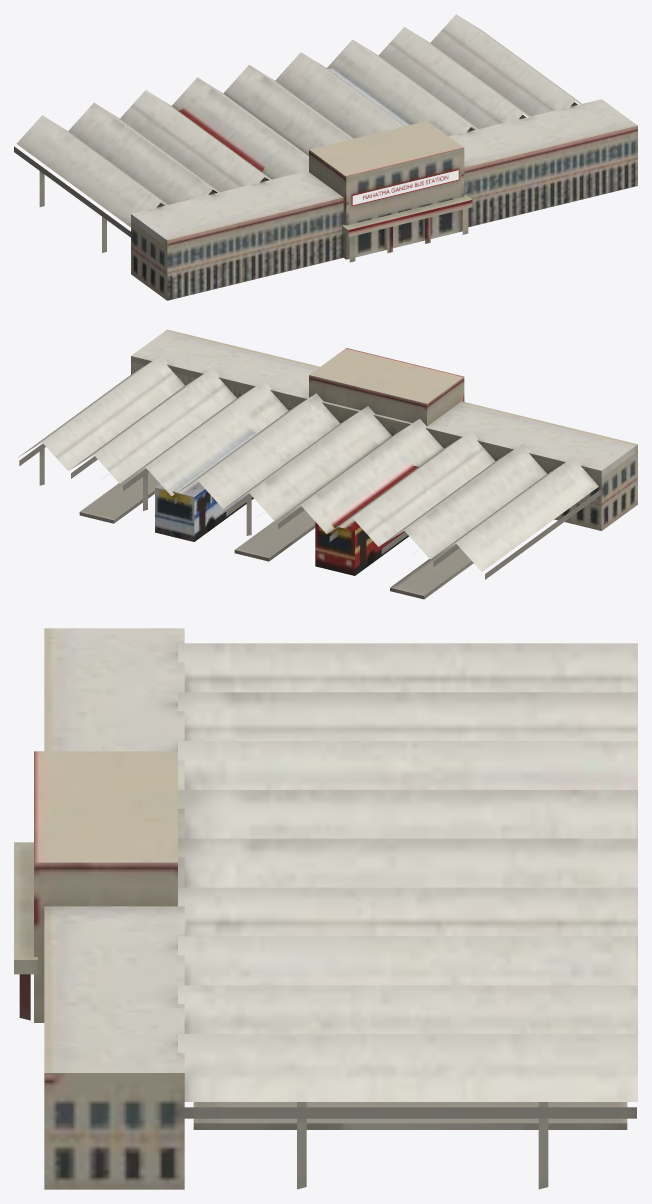
The model's file is imlibun_mgbs.glb.
The picture shows the model from 3 angles, top to bottom: view 1: azimuth 30°, elevation 25°; view 2: azimuth 150°, elevation 25°; view 3: azimuth 270°, elevation 25°; orthographic projection. The views are drawn at different scales.
Visible parts, largest first — view 1: imlibun_mgbs_body, imlibun_mgbs_sheet; view 2: imlibun_mgbs_body; view 3: imlibun_mgbs_body.
Boxes of the visible parts, bbox=[...] form: imlibun_mgbs_body: bbox=[14, 14, 637, 300]; imlibun_mgbs_sheet: bbox=[352, 169, 459, 206]; imlibun_mgbs_body: bbox=[18, 329, 637, 599]; imlibun_mgbs_body: bbox=[14, 628, 637, 1189].
Bounding box in the file's own units: 200 × 33.7 × 119.
2 materials, 2 textured.
